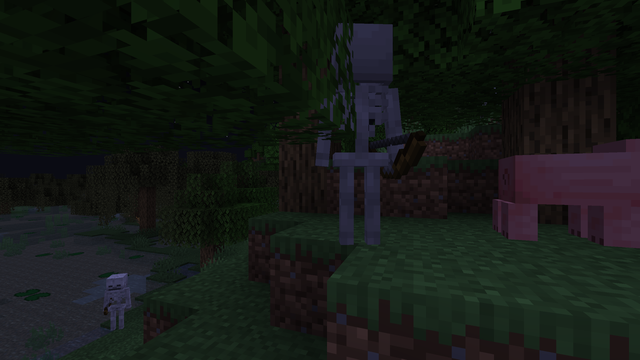cochons: (499, 148, 634, 249)
squelettes: (320, 15, 393, 254), (103, 272, 130, 334)
